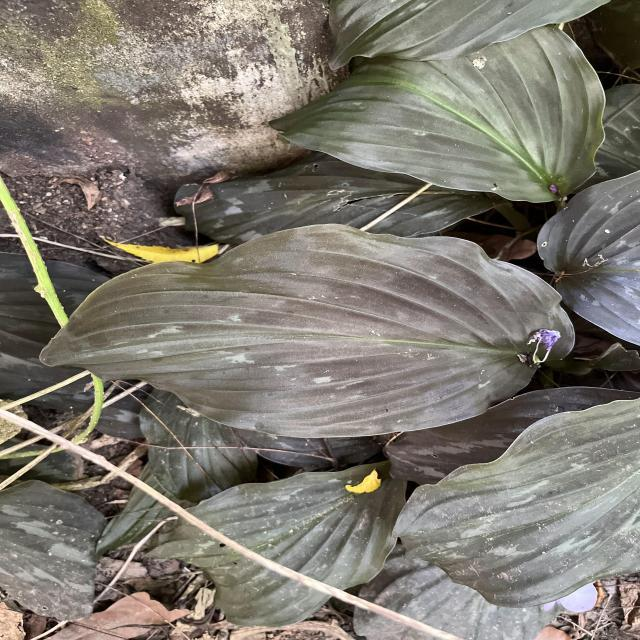Kaempferia galanga linn: (34, 219, 585, 443), (385, 389, 640, 614)
